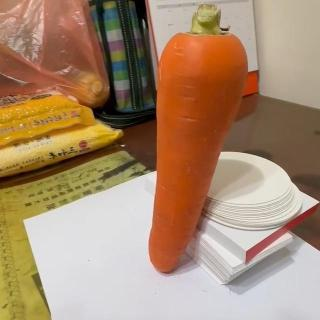carrot: (148, 5, 250, 275)
